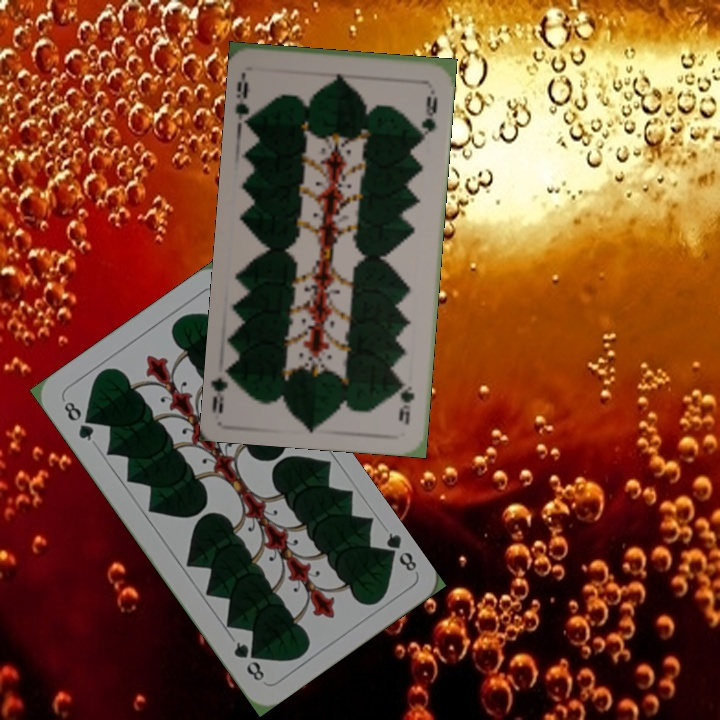G8: (377, 528, 420, 574), (59, 397, 97, 444)
G9: (231, 68, 258, 127), (394, 376, 417, 427)
